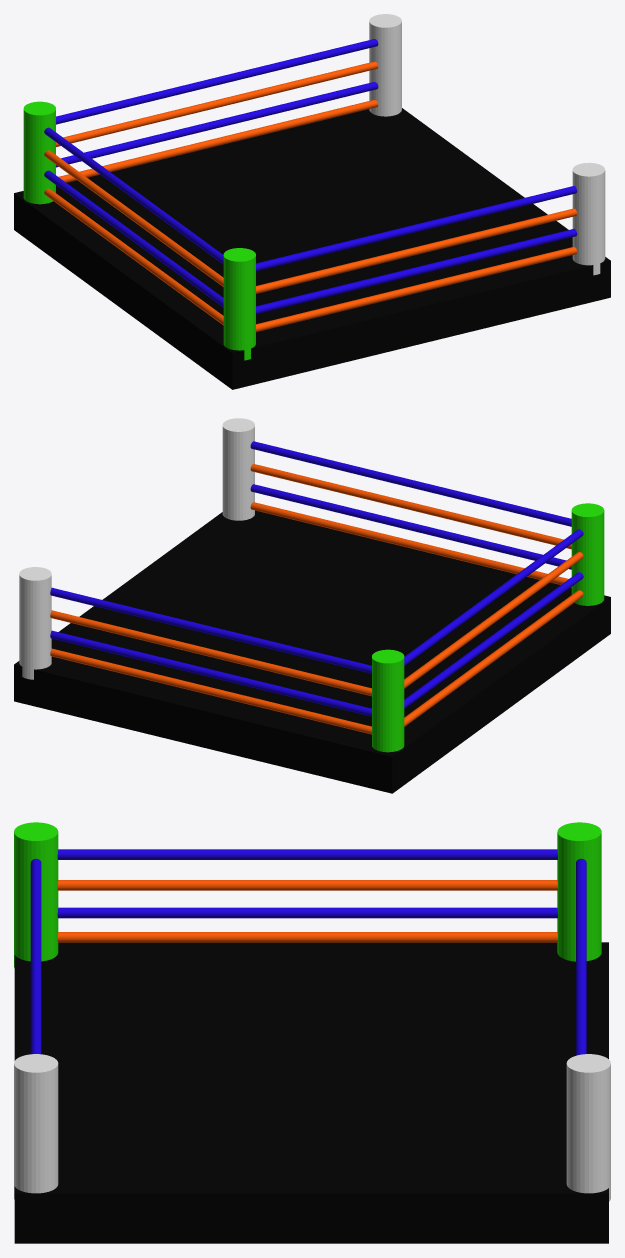
Rendered from boxingring2.fbx.
3 renders of one model, top to bottom at view 1: azimuth 30°, elevation 25°; view 2: azimuth 150°, elevation 25°; view 3: azimuth 270°, elevation 25°, orthographic. The views are drawn at different scales.
Parts seen in each view (by area): view 1: Cube, Cylinder.001, Cylinder, Cylinder.026, Cylinder.015, Cylinder.017, Cylinder.005, Cylinder.002, Cylinder.003, Cylinder.004, Cylinder.016, Cylinder.018 (+5 smaller); view 2: Cube, Cylinder.026, Cylinder.015, Cylinder, Cylinder.001, Cylinder.017, Cylinder.019, Cylinder.016, Cylinder.018, Cylinder.003, Cylinder.002, Cylinder.004 (+5 smaller); view 3: Cube, Cylinder.026, Cylinder, Cylinder.012, Cylinder.010, Cylinder.011, Cylinder.013, Cylinder.001, Cylinder.015, Cylinder.003, Cylinder.017.
Boxes of the visible parts, x1,y1,x2,y2 form: Cube: [14, 108, 610, 389]; Cylinder.001: [223, 248, 255, 360]; Cylinder: [572, 162, 605, 275]; Cylinder.026: [369, 14, 401, 116]; Cylinder.015: [23, 101, 55, 204]; Cylinder.017: [56, 39, 378, 124]; Cylinder.005: [256, 246, 577, 332]; Cylinder.002: [256, 208, 577, 293]; Cylinder.003: [256, 186, 577, 271]; Cylinder.004: [256, 228, 577, 314]; Cylinder.016: [56, 61, 378, 146]; Cylinder.018: [56, 82, 378, 167]; Cube: [14, 510, 610, 793]; Cylinder.026: [19, 567, 51, 679]; Cylinder.015: [372, 649, 404, 752]; Cylinder: [222, 418, 254, 520]; Cylinder.001: [571, 503, 604, 605]; Cylinder.017: [50, 587, 371, 673]; Cylinder.019: [50, 648, 371, 734]; Cylinder.016: [50, 610, 371, 696]; Cylinder.018: [50, 630, 371, 716]; Cylinder.003: [250, 441, 571, 526]; Cylinder.002: [250, 464, 571, 549]; Cylinder.004: [250, 484, 571, 569]; Cube: [14, 942, 608, 1243]; Cylinder.026: [566, 1054, 610, 1201]; Cylinder: [14, 1054, 58, 1199]; Cylinder.012: [57, 907, 557, 918]; Cylinder.010: [57, 880, 557, 890]; Cylinder.011: [57, 849, 557, 859]; Cylinder.013: [57, 932, 557, 942]; Cylinder.001: [14, 822, 58, 967]; Cylinder.015: [557, 822, 601, 961]; Cylinder.003: [30, 858, 41, 1054]; Cylinder.017: [576, 858, 586, 1055].
Size of the model in its own units: 703 by 223 by 707.
